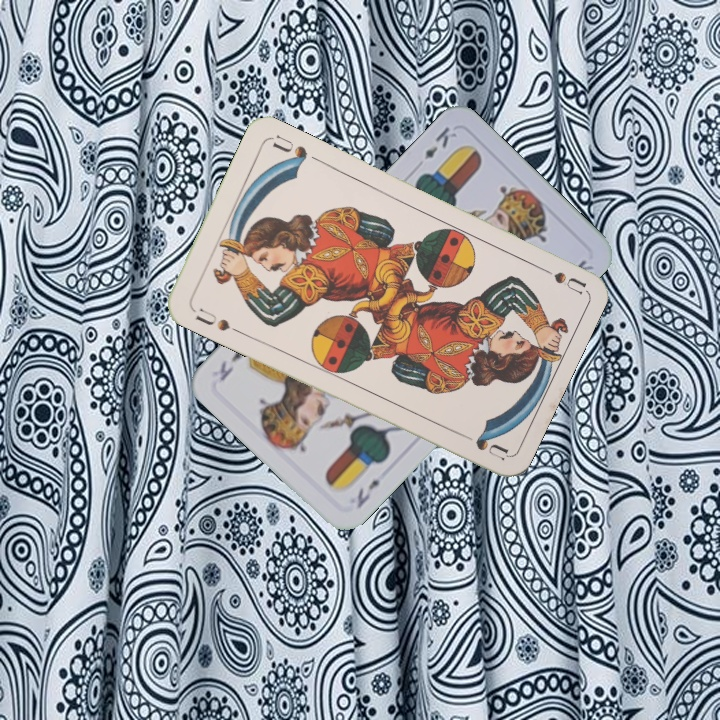EK: (420, 122, 460, 162), (352, 475, 383, 511)
SU: (530, 260, 587, 296), (191, 304, 243, 336)
